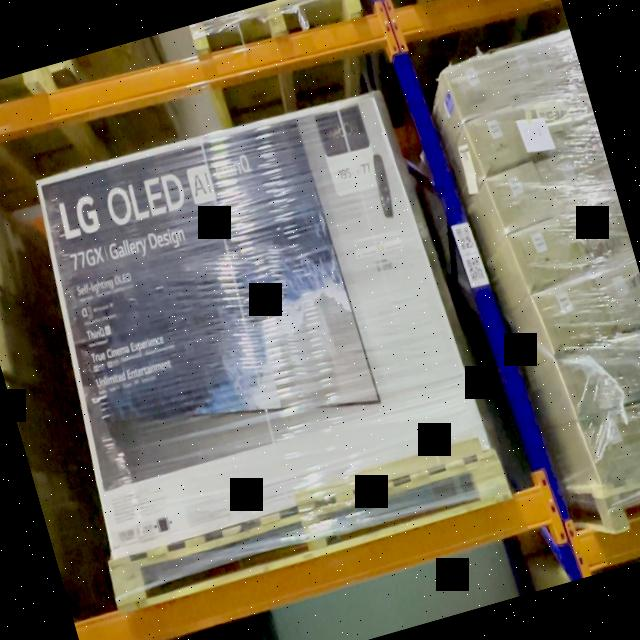box: (38, 92, 476, 548), (560, 340, 635, 418), (537, 275, 604, 352), (512, 218, 576, 292), (585, 404, 640, 483), (520, 93, 586, 158), (543, 146, 605, 212), (490, 162, 548, 232), (468, 106, 524, 174), (448, 56, 504, 120), (498, 41, 552, 104), (574, 203, 626, 266)
